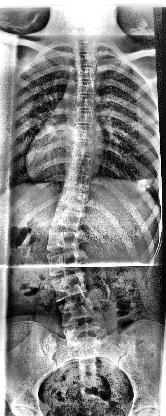Vertebrae: (57, 296, 95, 328), (50, 272, 90, 302), (45, 249, 85, 276), (46, 225, 82, 252), (50, 207, 82, 233), (57, 188, 86, 212), (64, 172, 94, 194), (68, 154, 95, 176), (74, 92, 99, 112), (70, 140, 96, 158), (75, 50, 99, 68), (74, 77, 98, 95), (74, 122, 96, 141), (73, 109, 98, 125), (76, 63, 98, 81), (72, 40, 100, 53)
